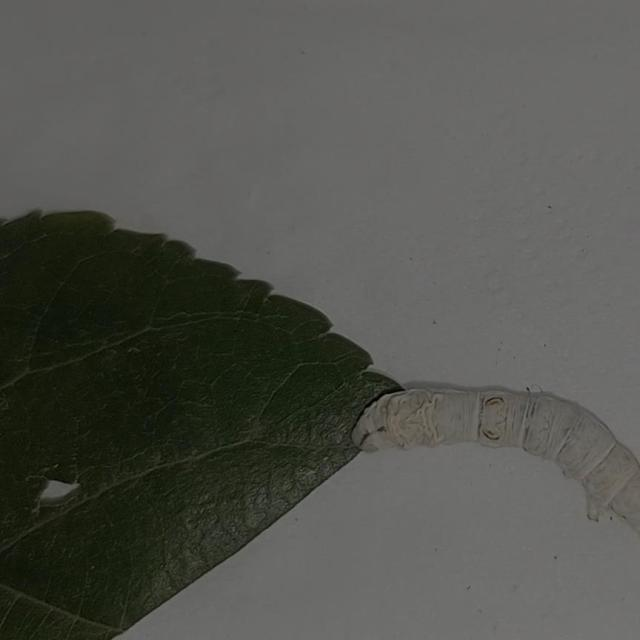Healthy: (311, 358, 640, 542)
